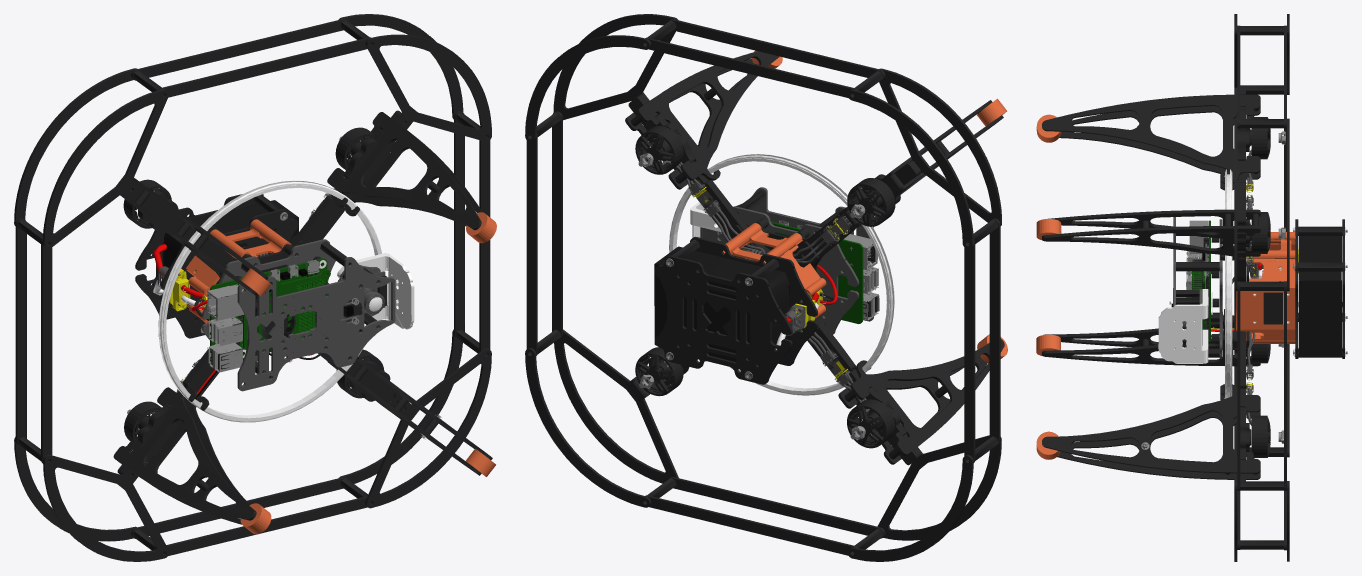
The model's file is body.glb.
3 renders of one model, left to right at view 1: azimuth 30°, elevation 25°; view 2: azimuth 150°, elevation 25°; view 3: azimuth 270°, elevation 25°, orthographic. The views are drawn at different scales.
Parts seen in each view (by area): view 1: Куб.013; view 2: Куб.013; view 3: Куб.013.
Boxes of the visible parts, x1,y1,x2,y2 form: Куб.013: (14, 14, 496, 561); Куб.013: (525, 14, 1007, 561); Куб.013: (1036, 14, 1347, 561).
Size of the model in its own units: 0.3281 by 0.3283 by 0.2147.
Materials: 10 (2 with a texture image).
